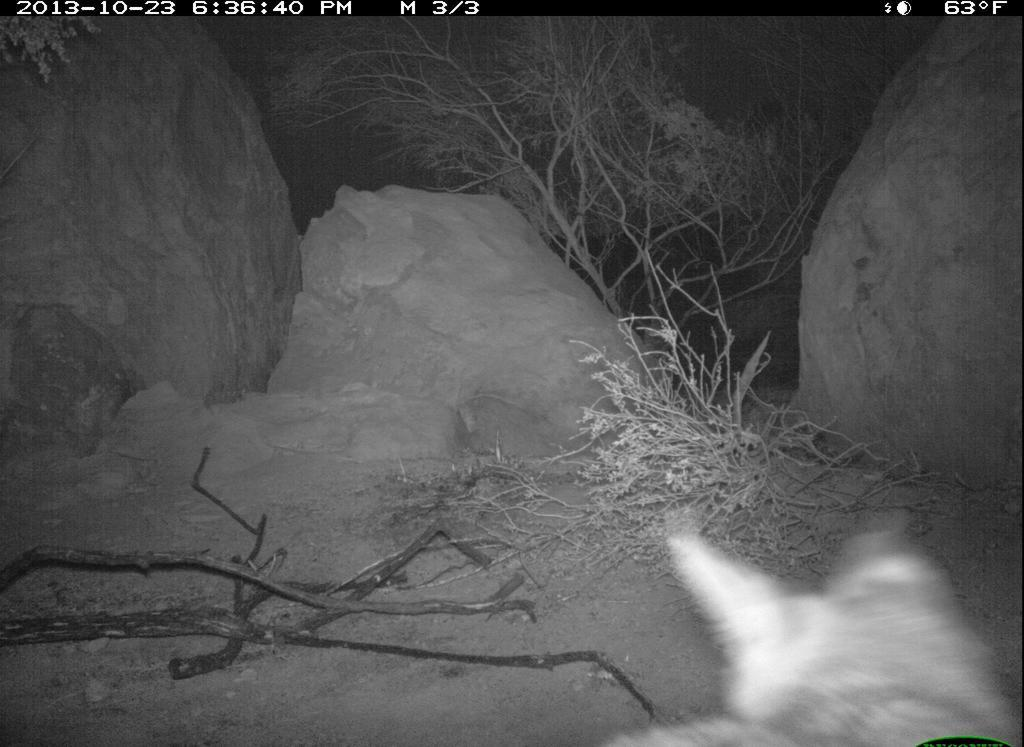bobcat: (571, 503, 1024, 747)
